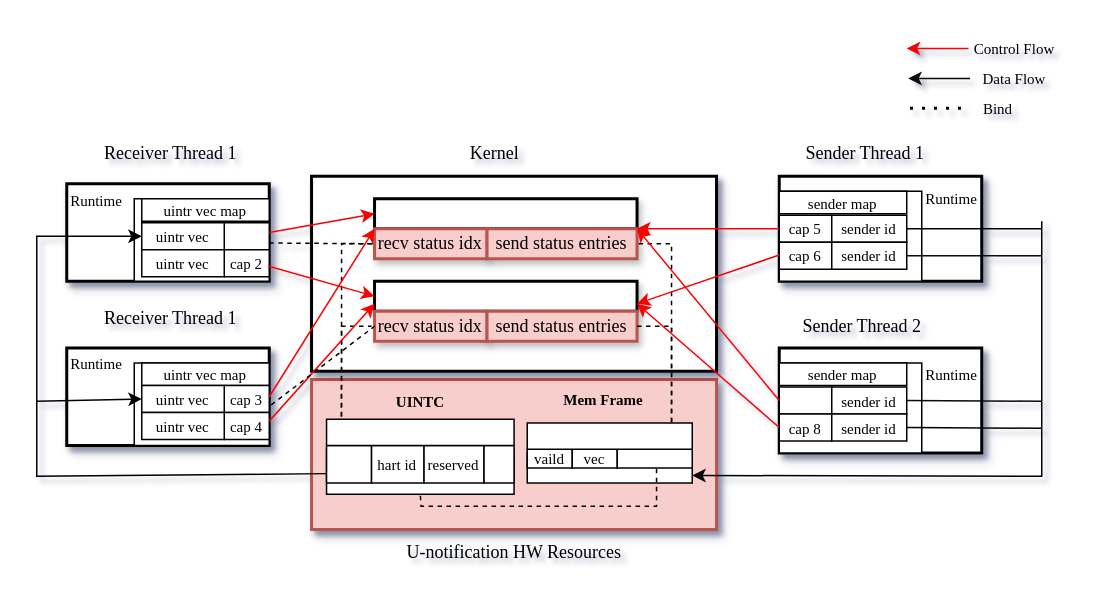
Image size: 1095x609. Some labels were removed from this diagram. The shapes that lost their labels are listed below. From the top down, each one's centre as x and y in pixels, then its label:
At point (246, 235): "cap 1".
At point (506, 215): "NTFN Object 1".
At point (506, 297): "NTFN Object 2".
At point (805, 400): "cap 7".
At point (419, 432): "Receiver Status Table".
At point (609, 435): "Sender Status Table".
At point (348, 463): "mode".
At point (498, 463): "irq".
At point (654, 458): "recv index".
